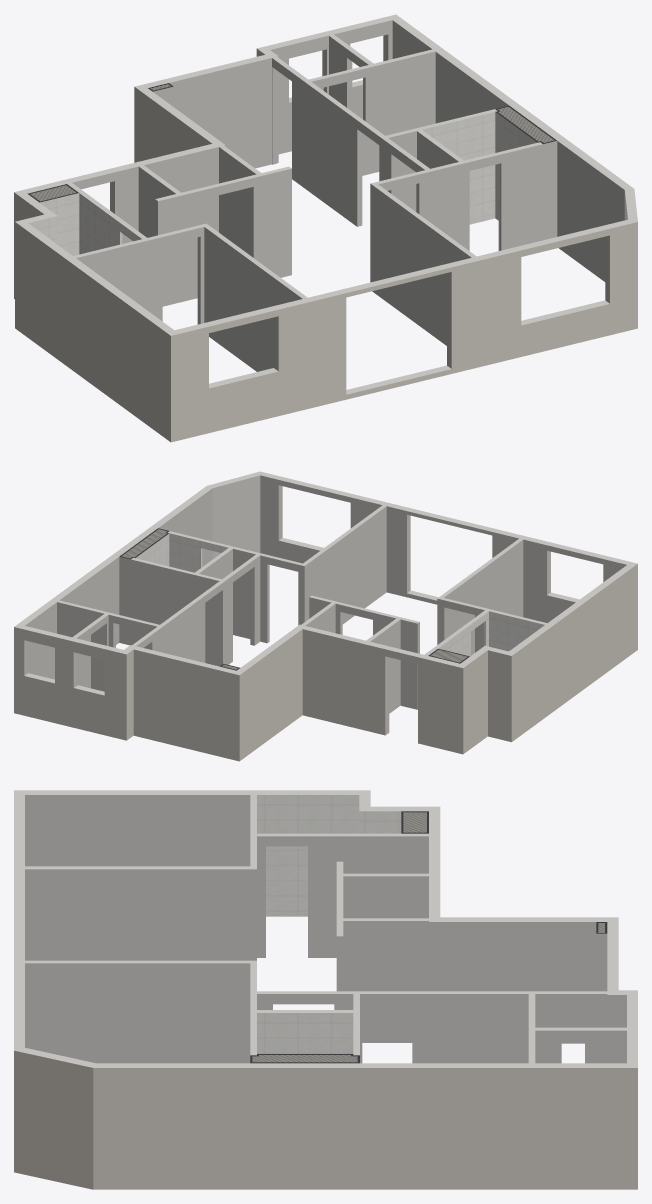
Rendered from walls.glb.
The picture shows the model from 3 angles, top to bottom: view 1: azimuth 30°, elevation 25°; view 2: azimuth 150°, elevation 25°; view 3: azimuth 270°, elevation 25°; orthographic projection. The views are drawn at different scales.
Parts seen in each view (by area): view 1: wall_E10_lower, wall_E10_upper, wall_E11_upper, wall_E08_upper, wall_E11_lower, wall_I08_upper, wall_I09_upper, wall_E05_upper, wall_I03_upper, wall_E03_upper, wall_I07_upper, wall_I10_upper (+28 smaller); view 2: wall_E10_upper, wall_E03_upper, wall_E11_upper, wall_E08_upper, wall_E03_lower, wall_E11_lower, wall_E05_upper, wall_E07_lower, wall_E10_lower, wall_E05_lower, wall_I07_upper, wall_I09_upper (+31 smaller); view 3: wall_E08_upper, wall_E08_lower, wall_E11_upper, wall_I07_upper, wall_I06_upper, wall_I09_upper, wall_E04_upper, wall_I07_lower, wall_I01_upper, wall_I06_lower, wall_I04_upper, wall_E09_upper (+21 smaller).
Boxes of the visible parts, x1,y1,x2,y2 form: wall_E10_lower: (166,278,634,442); wall_E10_upper: (166,219,634,390); wall_E11_upper: (19,223,173,387); wall_E08_upper: (392,18,634,226); wall_E11_lower: (19,281,165,438); wall_I08_upper: (376,142,542,225); wall_I09_upper: (272,56,429,196); wall_E05_upper: (143,52,278,129); wall_I03_upper: (155,166,291,255); wall_E03_upper: (22,141,225,223); wall_I07_upper: (370,182,476,294); wall_I10_upper: (309,49,435,122); wall_E10_upper: (260,472,637,610); wall_E03_upper: (296,624,459,710); wall_E11_upper: (509,565,633,697); wall_E08_upper: (18,485,214,667); wall_E03_lower: (302,674,456,752); wall_E11_lower: (515,611,633,738); wall_E05_upper: (127,645,236,718); wall_E07_lower: (14,671,119,738); wall_E10_lower: (260,520,637,652); wall_E05_lower: (133,694,232,759); wall_I07_upper: (300,505,386,610); wall_I09_upper: (132,554,260,657); wall_E08_upper: (89,1063,626,1130); wall_E08_lower: (89,1130,626,1189); wall_E11_upper: (25,790,359,857); wall_I07_upper: (25,960,256,1026); wall_I06_upper: (25,866,250,932); wall_I09_upper: (257,991,607,1057); wall_E04_upper: (440,917,618,984); wall_I07_lower: (25,1026,250,1063); wall_I01_upper: (250,833,428,899); wall_I06_lower: (25,932,250,960); wall_I04_upper: (343,918,428,984); wall_E09_upper: (14,1046,94,1129).
Bounding box in the file's own units: 11.8 × 2.41 × 11.2.
Materials: 5 (2 with a texture image).
